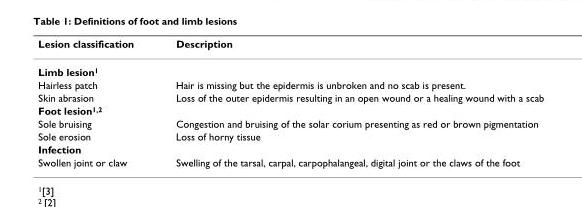table: (37, 37, 543, 168)
table column: (154, 37, 543, 168), (37, 37, 154, 168)
table column header: (37, 37, 543, 57)
table projected row header: (37, 57, 543, 77), (37, 103, 543, 116), (37, 142, 543, 155)
table row: (37, 37, 543, 57), (37, 57, 543, 77), (37, 77, 543, 90), (37, 90, 543, 103), (37, 103, 543, 116), (37, 116, 543, 129), (37, 129, 543, 142), (37, 142, 543, 155), (37, 155, 543, 168)
